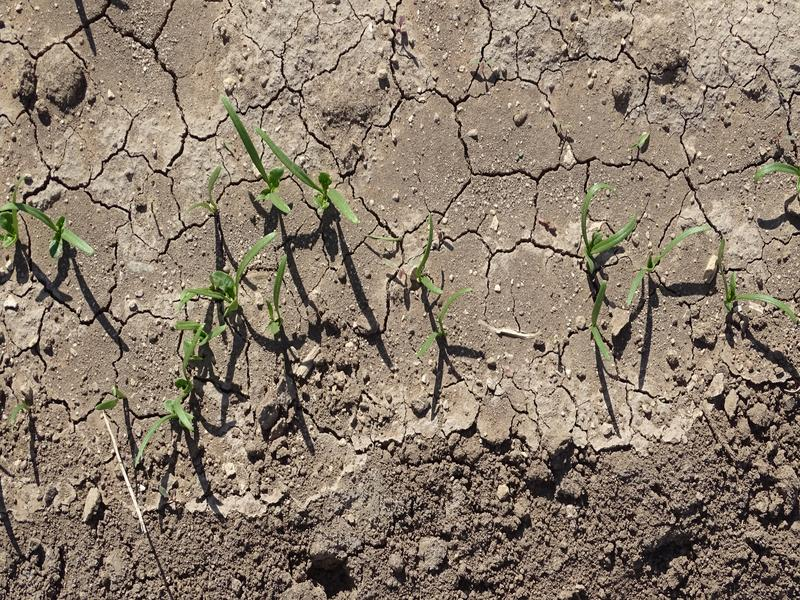Espinaca: (221, 95, 364, 223), (182, 230, 279, 312), (623, 226, 711, 301), (569, 181, 636, 268), (14, 196, 97, 255), (419, 286, 477, 354), (140, 387, 193, 459), (717, 273, 797, 320), (171, 317, 231, 370), (420, 220, 443, 296), (755, 163, 796, 180)
